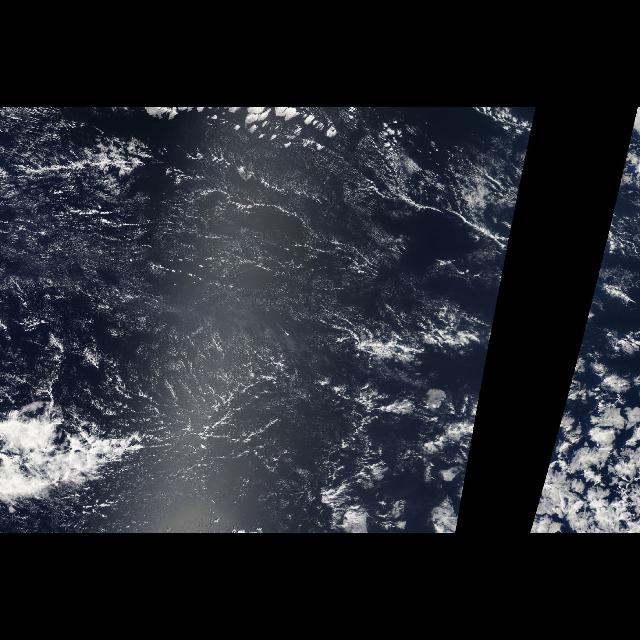Fish: (18, 388, 188, 494)
Flower: (540, 329, 634, 497)
Sugar: (2, 118, 436, 420)
